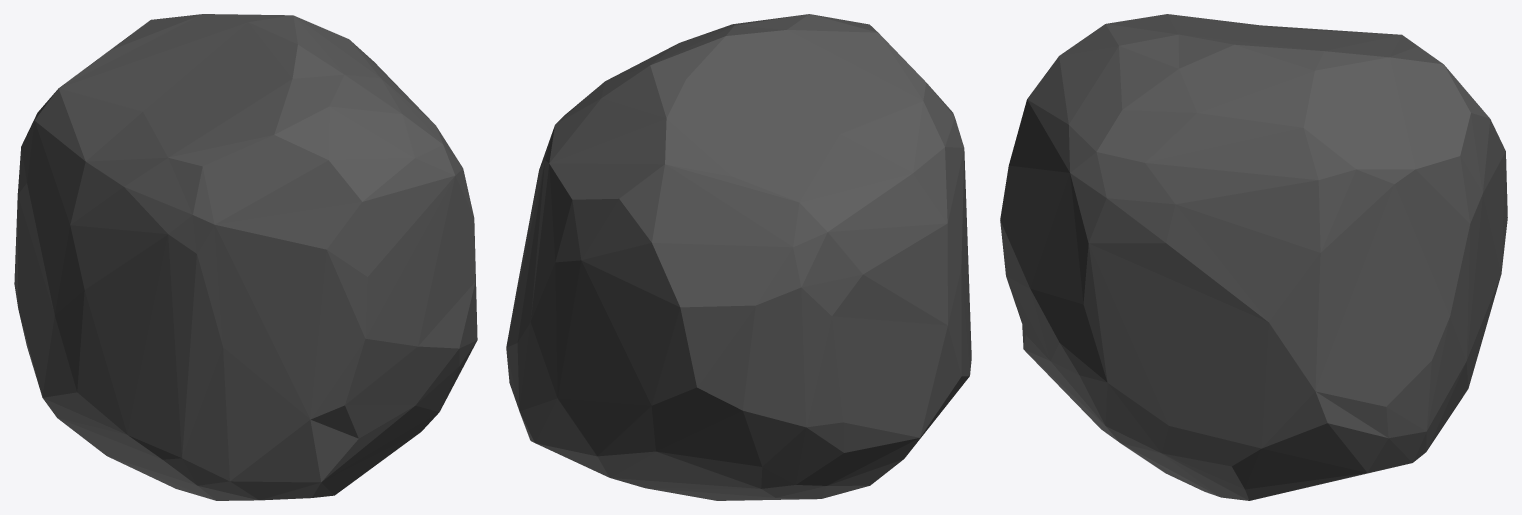
File: Rock2.fbx
3 views of the same model, side by side, from view 1: azimuth 30°, elevation 25°; view 2: azimuth 150°, elevation 25°; view 3: azimuth 270°, elevation 25° (orthographic).
Visible parts, largest first — view 1: kő.002; view 2: kő.002; view 3: kő.002.
Part boxes in pixels (box(x1,y1,x2,y2)): kő.002: box(14, 14, 477, 500); kő.002: box(506, 14, 971, 500); kő.002: box(1000, 14, 1507, 500).
Size of the model in its own units: 2.2 by 2.29 by 2.4.
Materials: 1 (1 with a texture image).
